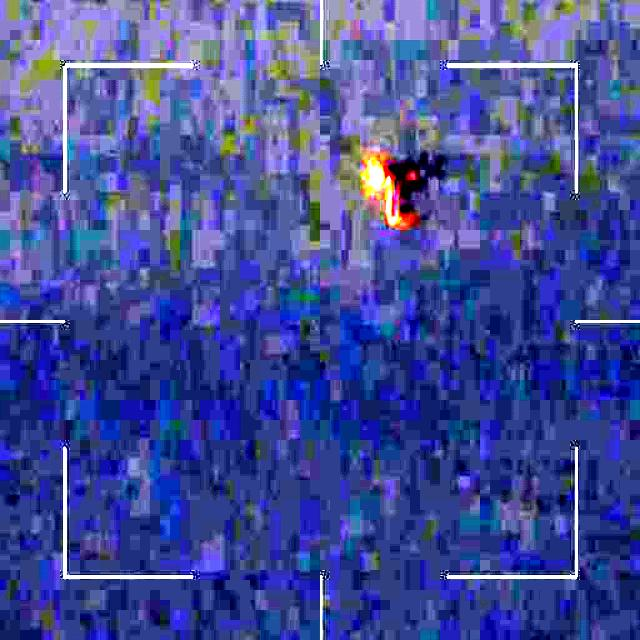bird: (358, 155, 440, 248)
